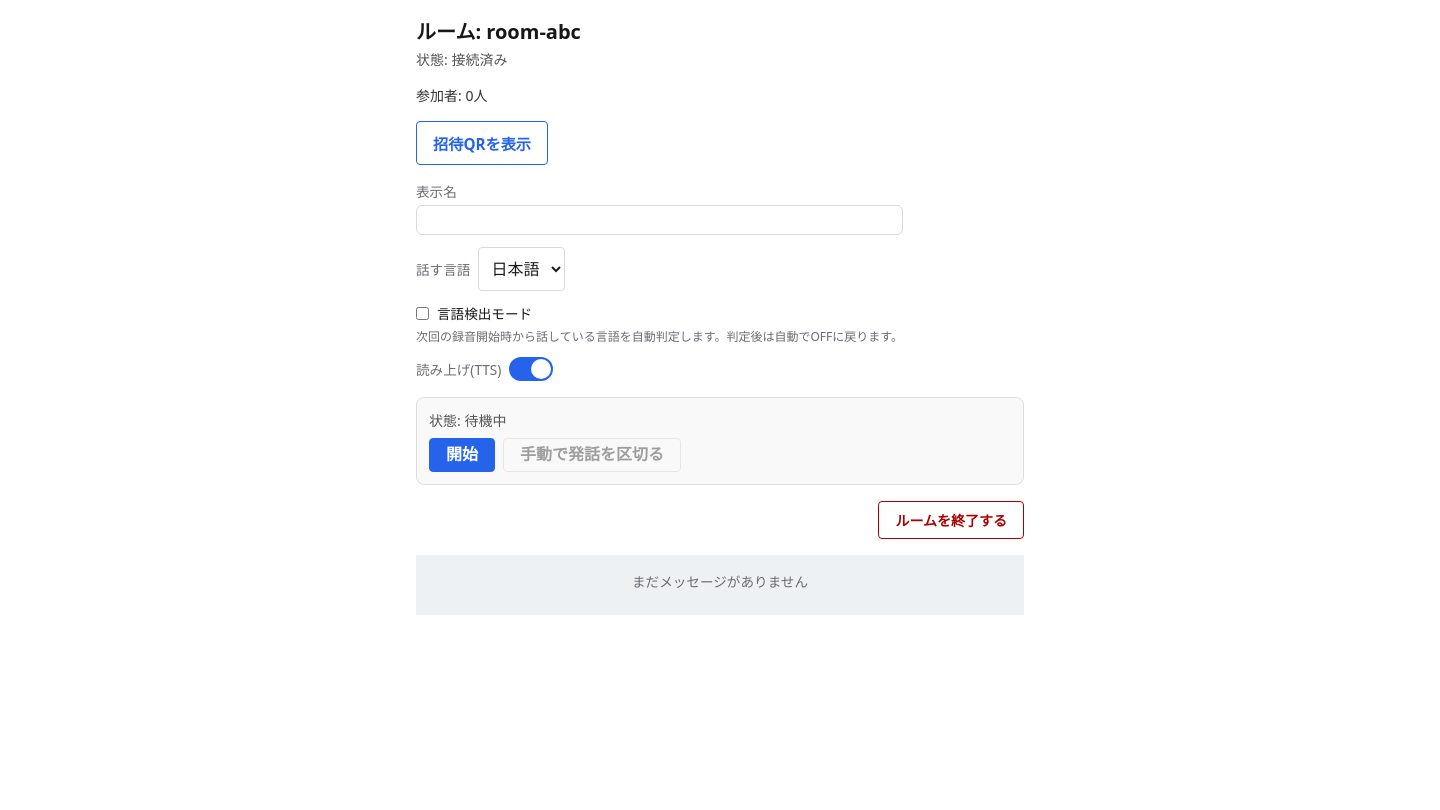
it: RoomClient › room_ended ハンドリング（two-device-translator-4xi） › 確認ダイアログで「キャンセル」を押すとrequest_endは送信されずダイアログが閉じる
Click the button "ルームを終了する" at (951, 520), box [878,501,1024,539]
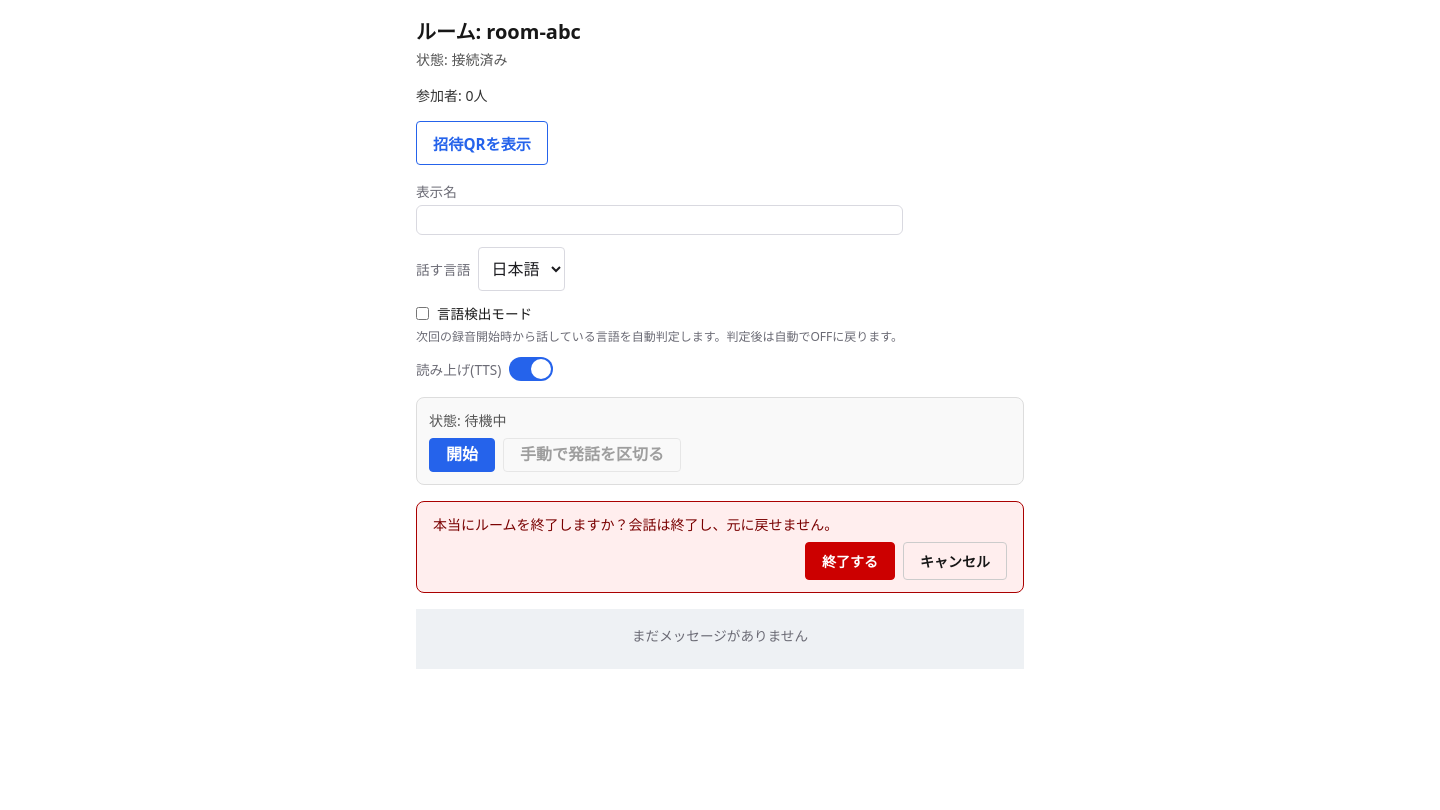
Now the dialog is shown, box [416,501,1024,593]
Click the button "キャンセル" at (955, 561), box [903,542,1007,580]
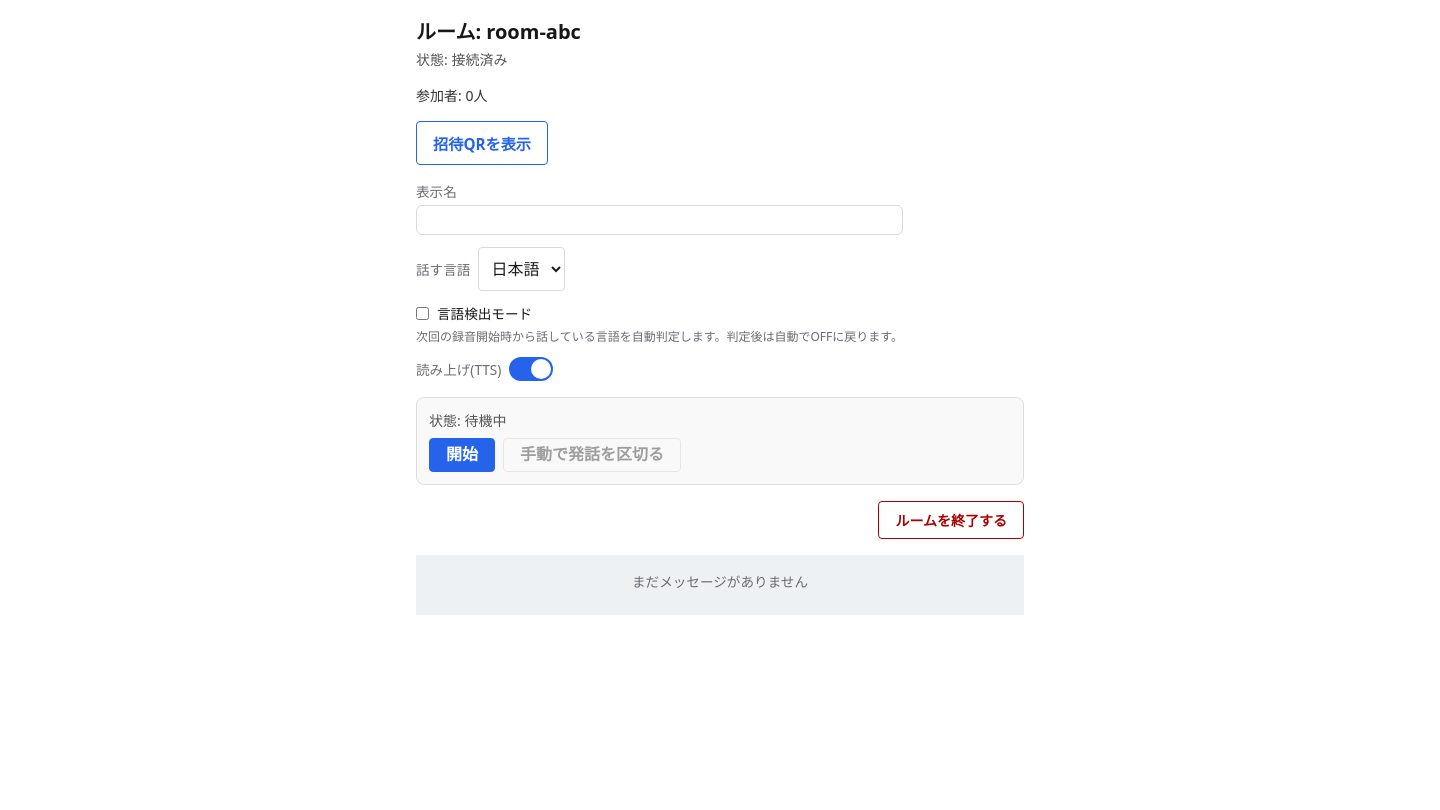
Now the dialog is gone
Now the button "ルームを終了する" is shown, box [878,501,1024,539]
